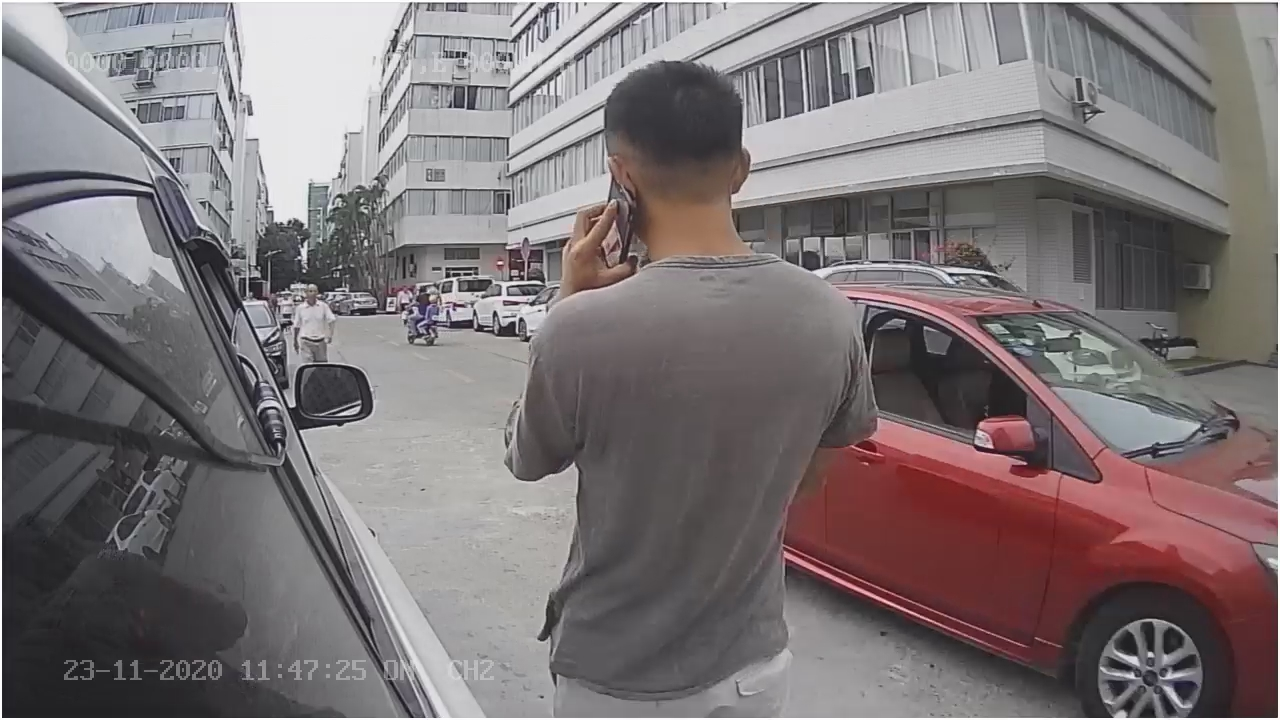person: (495, 62, 889, 640)
